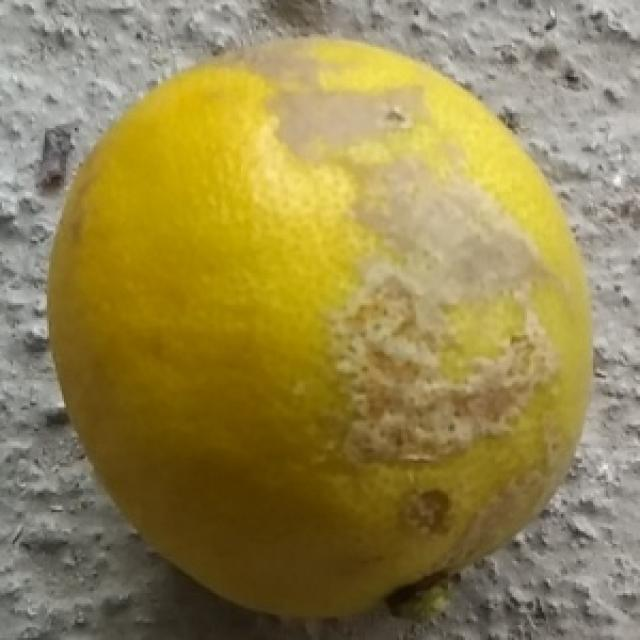overripe: (44, 32, 601, 620)
